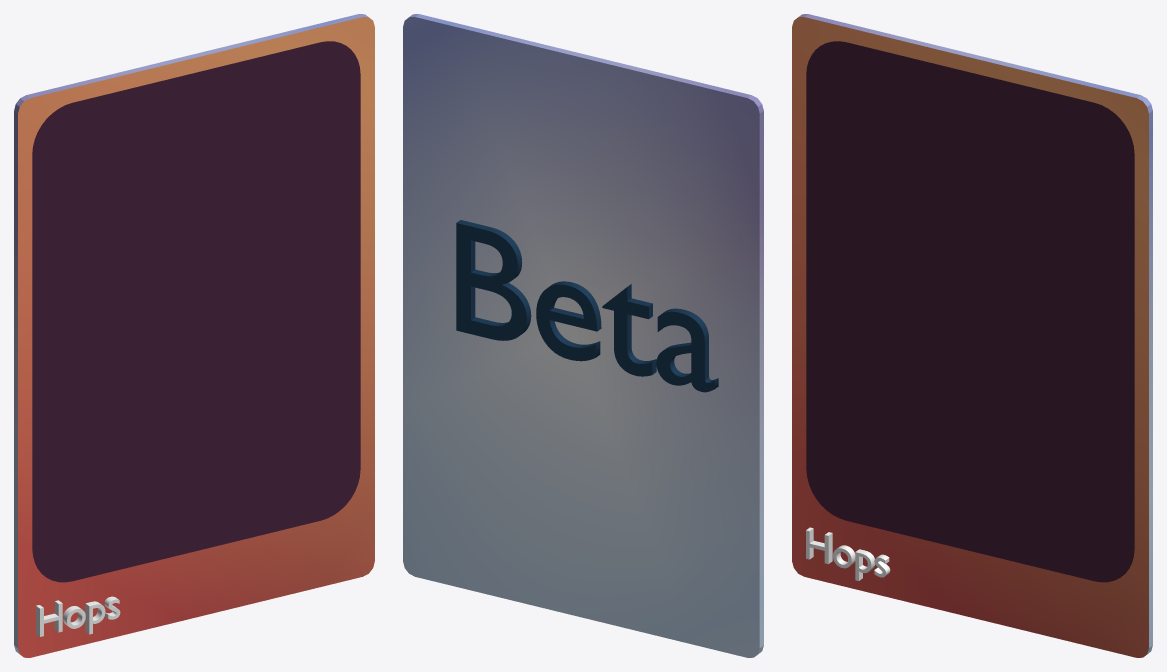
The model's file is Card3D.glb.
3 views of the same model, side by side, from view 1: azimuth 30°, elevation 25°; view 2: azimuth 150°, elevation 25°; view 3: azimuth 330°, elevation 25° (orthographic).
Parts seen in each view (by area): view 1: CardContent, Card, CardName; view 2: Card, Logo; view 3: CardContent, Card, CardName.
Part boxes in pixels (bbox=[...]): CardContent: bbox=[32, 41, 360, 582]; Card: bbox=[14, 14, 374, 657]; CardName: bbox=[36, 596, 120, 636]; Card: bbox=[403, 14, 763, 657]; Logo: bbox=[456, 220, 718, 392]; CardContent: bbox=[806, 41, 1134, 582]; Card: bbox=[792, 14, 1152, 657]; CardName: bbox=[806, 527, 890, 580].
Bounding box in the file's own units: 2 × 3 × 0.124.
Materials: 1 (1 with a texture image).
